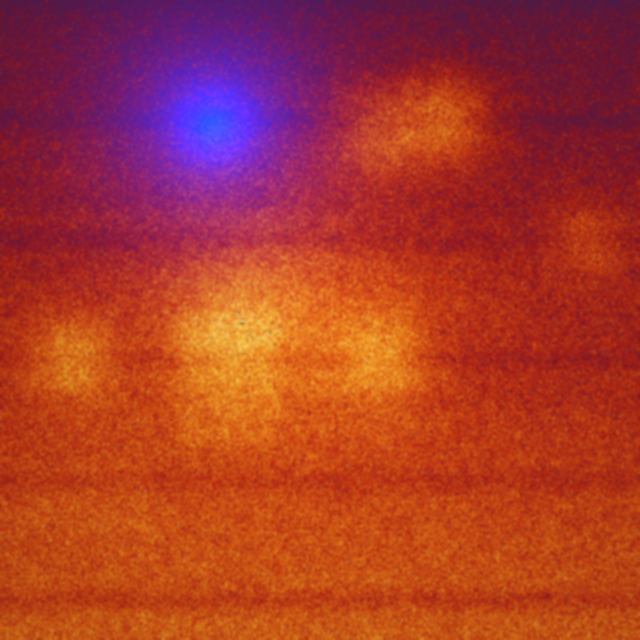nozzle: (163, 82, 273, 171)
